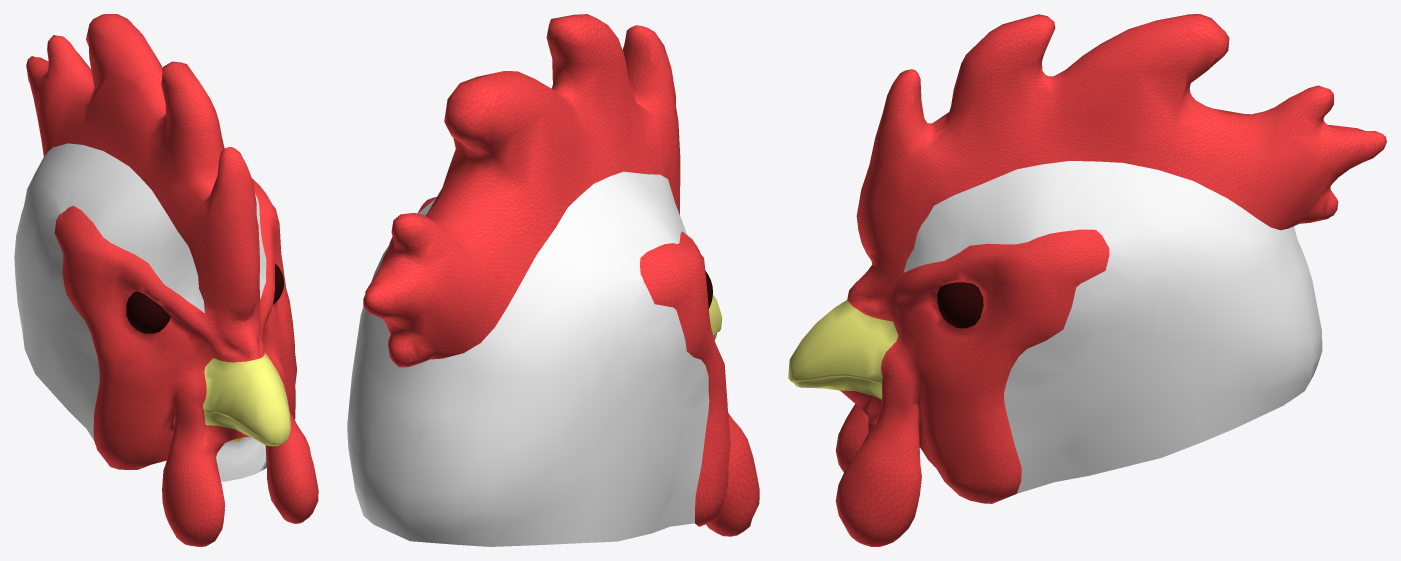
3 renders of one model, left to right at view 1: azimuth 30°, elevation 25°; view 2: azimuth 150°, elevation 25°; view 3: azimuth 270°, elevation 25°, orthographic. The views are drawn at different scales.
Parts seen in each view (by area): view 1: Richard; view 2: Richard; view 3: Richard.
Part boxes in pixels (x1,y1,x2,y2): Richard: (14, 14, 318, 546); Richard: (347, 14, 759, 546); Richard: (788, 14, 1386, 546).
Size of the model in its own units: 1.09 by 2.15 by 2.33.
1 material, 1 textured.
